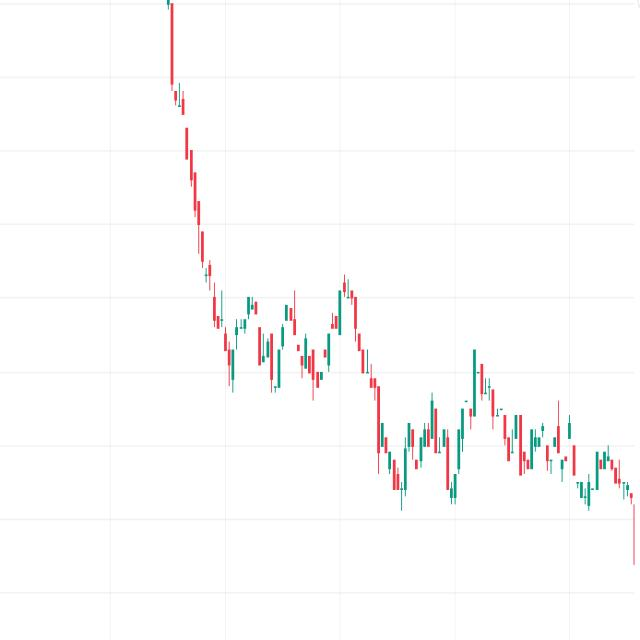Triple-Top: (224, 275, 377, 401)
